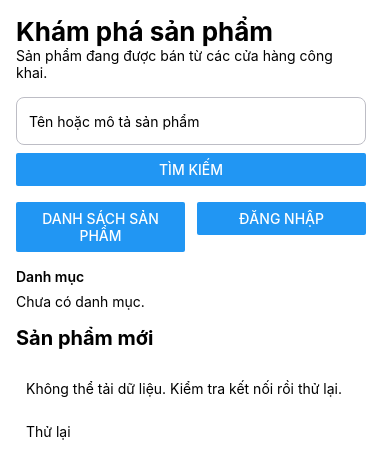
it: reports an error and retries to an empty list
Expected: the text "Không thể tải dữ liệu. Kiểm tra kết nối rồi thử lại." is shown, [26,380,356,397]
Click the button "Thử lại" at (48, 431), box [26,409,356,453]
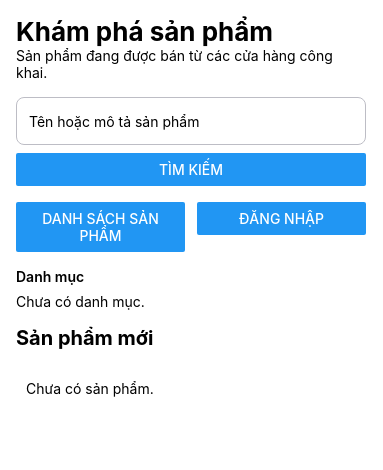
Expected: the text "Chưa có sản phẩm." is shown, [26,380,154,397]
